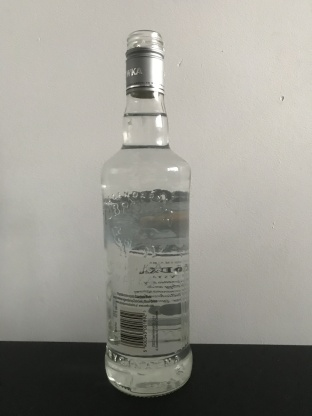nakretka: (123, 27, 167, 100)
